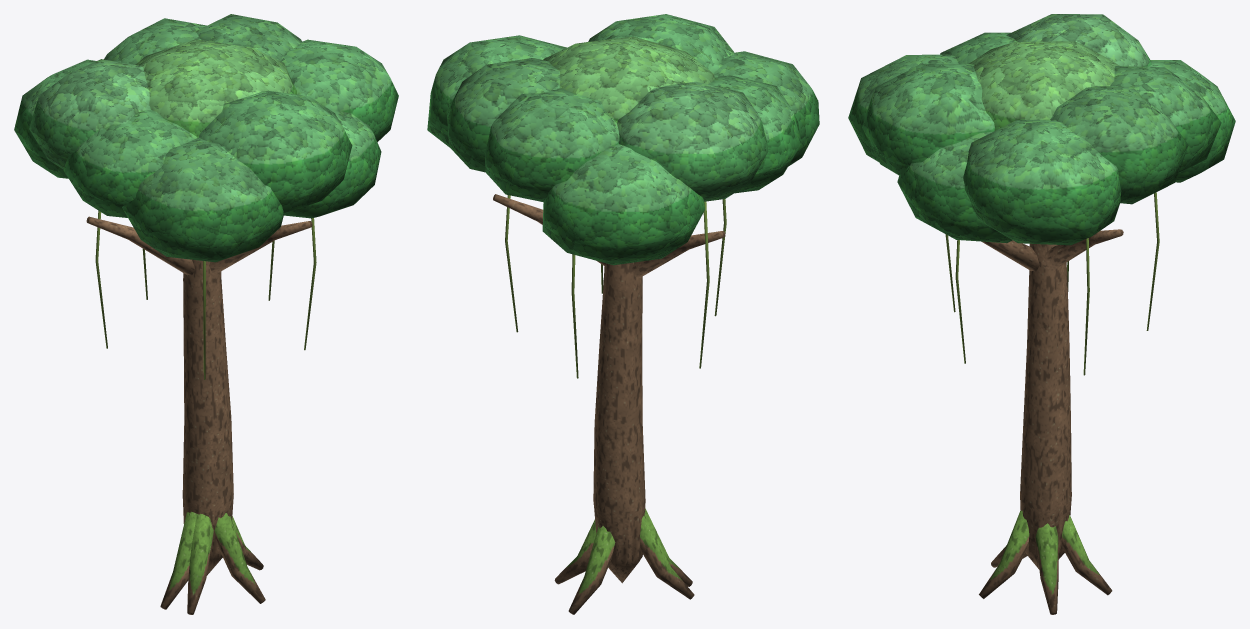
Rendered from jungle_tree_b.glb.
3 renders of one model, left to right at view 1: azimuth 30°, elevation 25°; view 2: azimuth 150°, elevation 25°; view 3: azimuth 270°, elevation 25°, orthographic. The views are drawn at different scales.
Parts seen in each view (by area): view 1: Crown_leaf, Trunk, Lianas_leaf; view 2: Crown_leaf, Trunk, Lianas_leaf; view 3: Crown_leaf, Trunk, Lianas_leaf.
Boxes of the visible parts, x1=… form: Crown_leaf: x1=14, y1=14, x2=398, y2=262; Trunk: x1=86, y1=216, x2=312, y2=614; Lianas_leaf: x1=95, y1=210, x2=316, y2=379; Crown_leaf: x1=427, y1=14, x2=819, y2=265; Trunk: x1=493, y1=194, x2=725, y2=614; Lianas_leaf: x1=505, y1=195, x2=726, y2=378; Crown_leaf: x1=848, y1=14, x2=1235, y2=245; Trunk: x1=979, y1=229, x2=1123, y2=614; Lianas_leaf: x1=945, y1=192, x2=1159, y2=375.
Bounding box in the file's own units: 6.57 × 10.3 × 6.73.
1 material, 1 textured.
